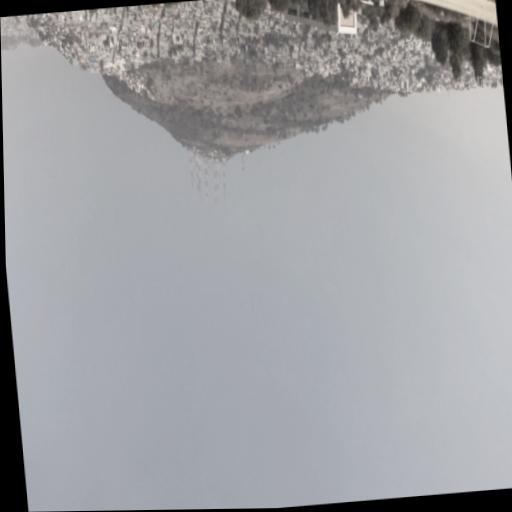drones: (232, 105, 236, 109)
